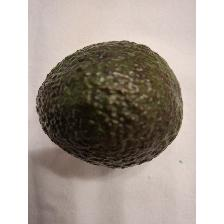Avocado: (34, 36, 188, 174)
